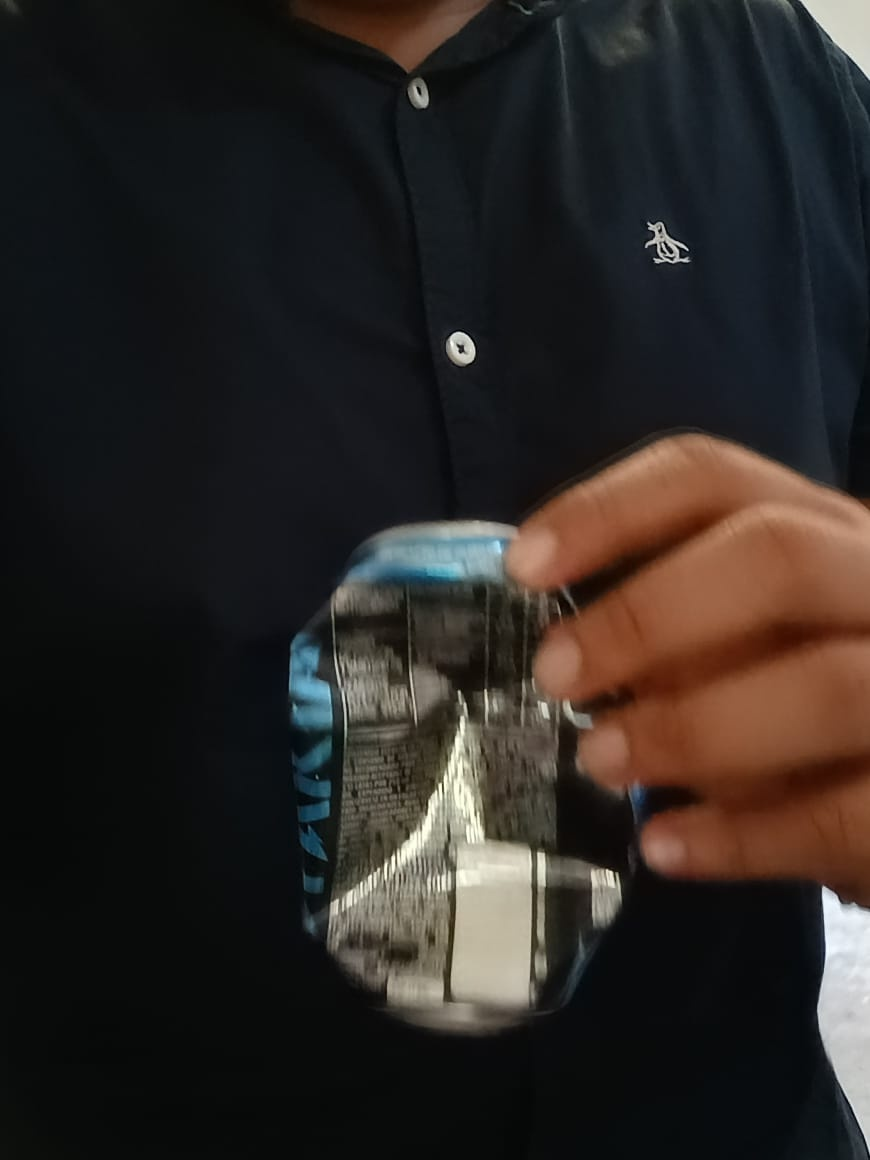Metal: (285, 518, 644, 1029)
